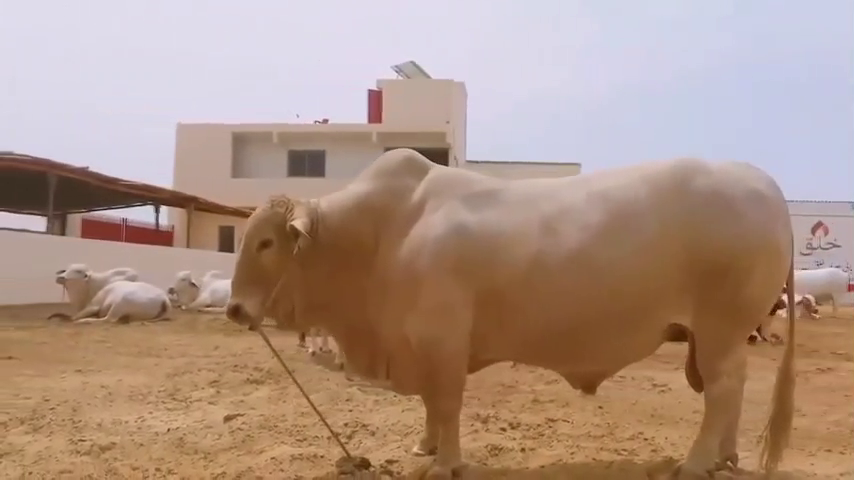bo: (217, 126, 810, 474), (55, 250, 144, 303), (79, 275, 172, 324), (788, 266, 854, 322), (169, 261, 235, 305), (768, 292, 824, 325)
